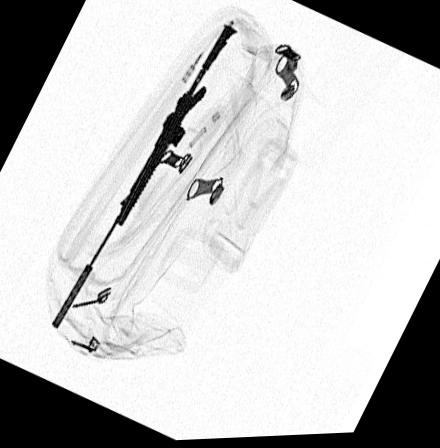Gun: (48, 18, 237, 333)
